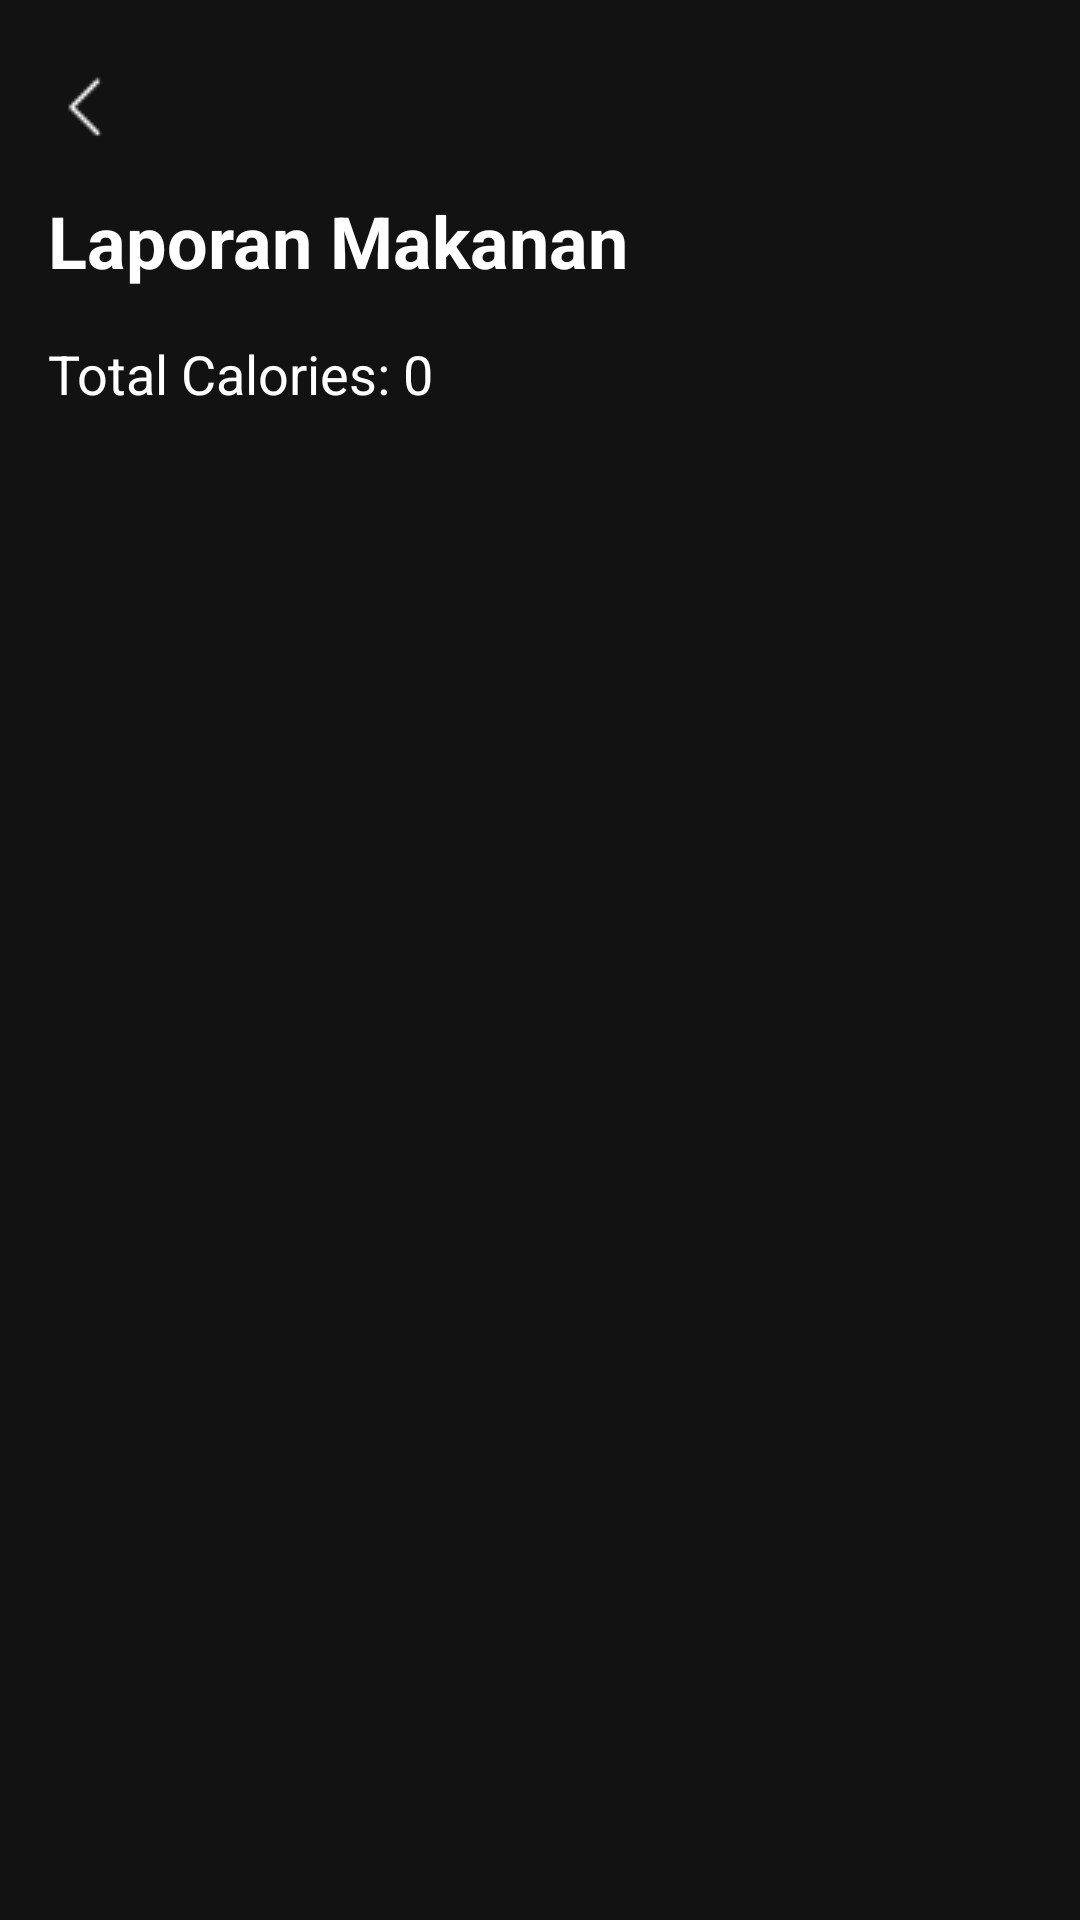

Where to tap for icons on this 1080px×1920px app screen, as (x=x, y=y):
Back: (x=84, y=106)
